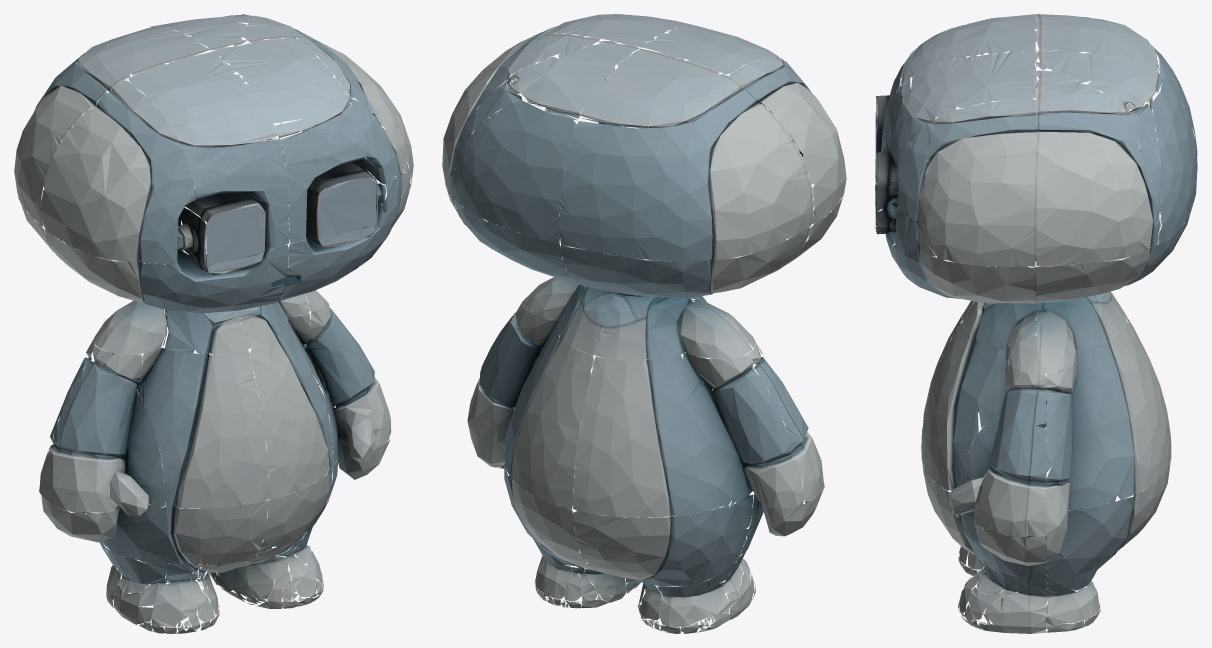
The model's file is npc_c.glb.
3 renders of one model, left to right at view 1: azimuth 30°, elevation 25°; view 2: azimuth 150°, elevation 25°; view 3: azimuth 270°, elevation 25°, orthographic.
Visible parts, largest first — view 1: world; view 2: world; view 3: world.
Part boxes in pixels (x1,y1,x2,y2): world: (14,14,413,633); world: (442,14,846,633); world: (875,14,1197,633).
Size of the model in its own units: 0.6583 by 1 by 0.5415.
1 material, 1 textured.
